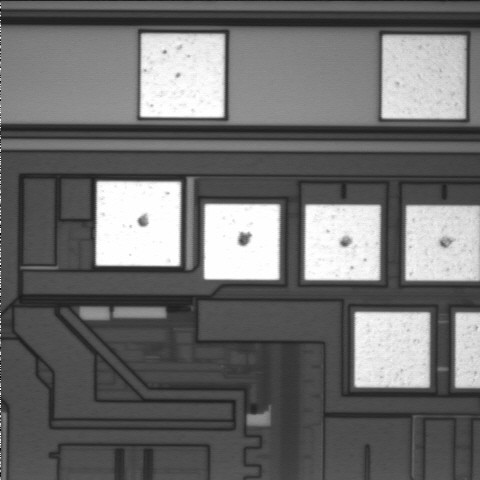pad: (96, 181, 181, 266), (140, 34, 225, 118), (382, 36, 465, 119), (204, 204, 280, 280), (305, 205, 380, 280), (355, 312, 430, 387)
